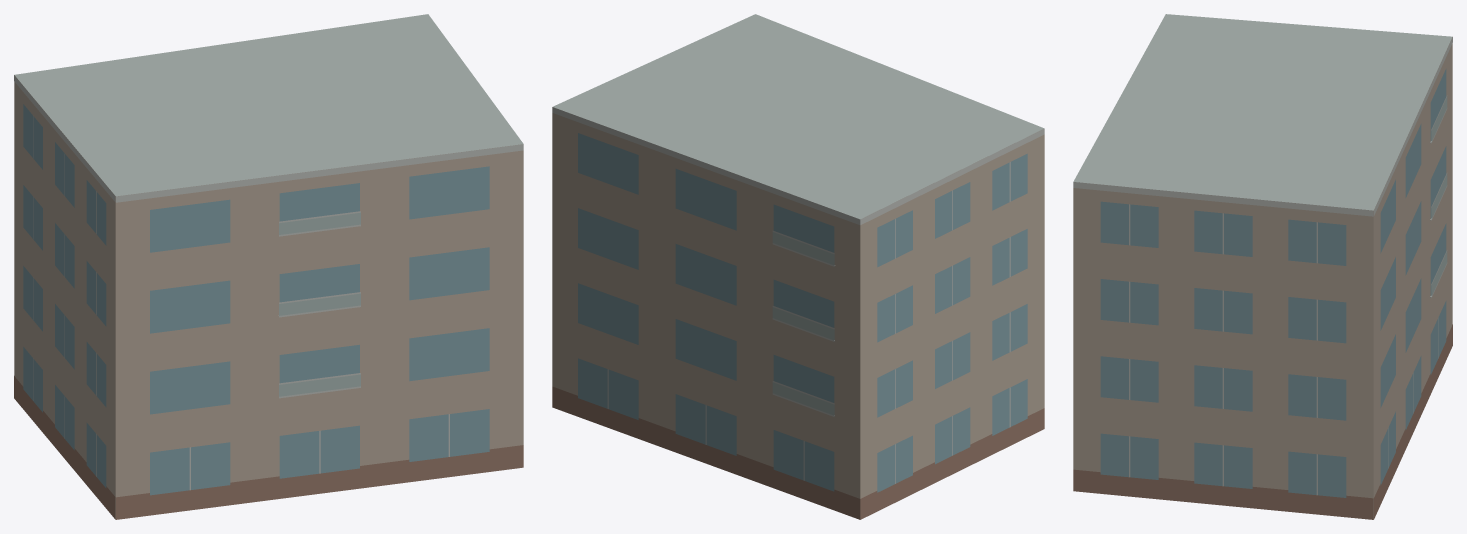
Rendered from survey-upis-32704916.glb.
3 views of the same model, side by side, from view 1: azimuth 30°, elevation 25°; view 2: azimuth 150°, elevation 25°; view 3: azimuth 270°, elevation 25° (orthographic). The views are drawn at different scales.
Parts seen in each view (by area): view 1: survey-upis-32704916.tmp; view 2: survey-upis-32704916.tmp; view 3: survey-upis-32704916.tmp.
Part boxes in pixels (x1,y1,x2,y2): survey-upis-32704916.tmp: [14, 14, 523, 519]; survey-upis-32704916.tmp: [552, 14, 1044, 519]; survey-upis-32704916.tmp: [1073, 14, 1452, 519].
Bounding box in the file's own units: 16.91 × 12.4 × 13.8.
